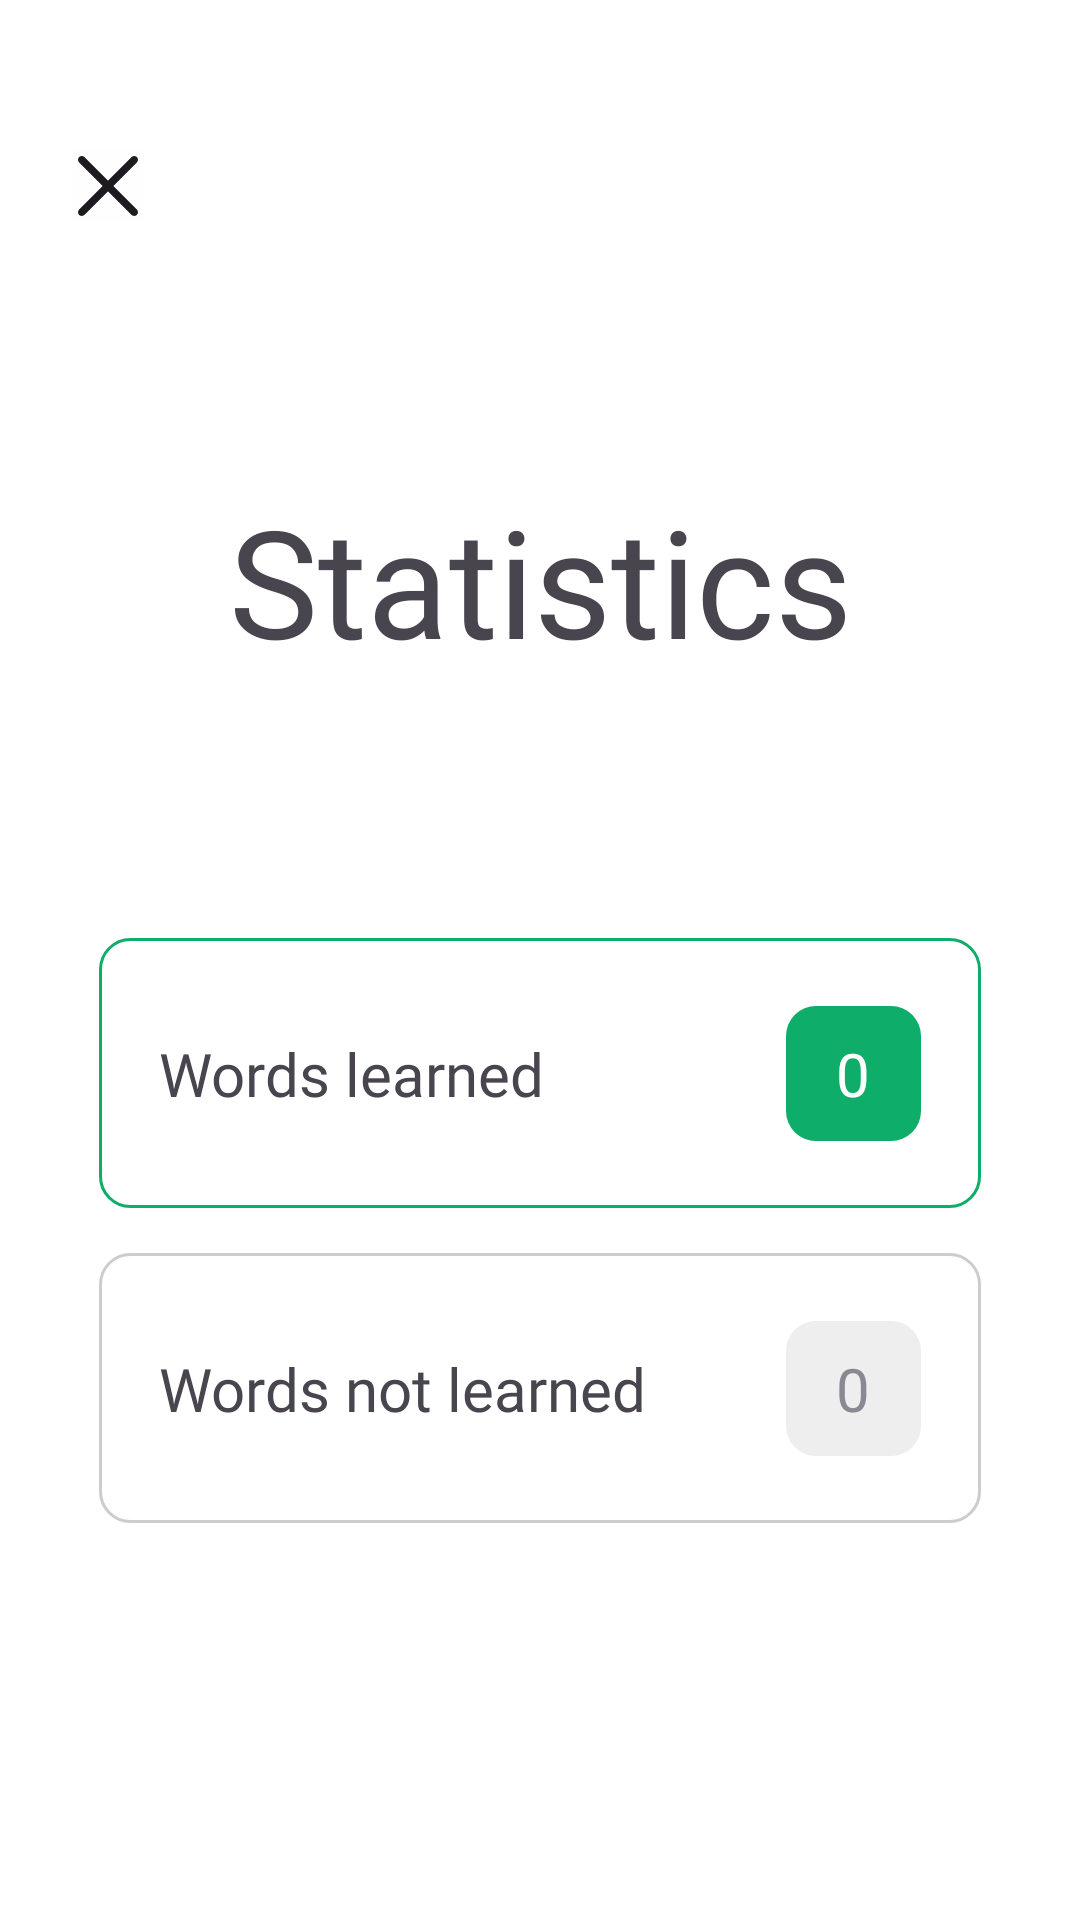

Icon click points for this 1080 x 1920 phone screenshot, format point (x, y):
close imege button: point (108, 186)
